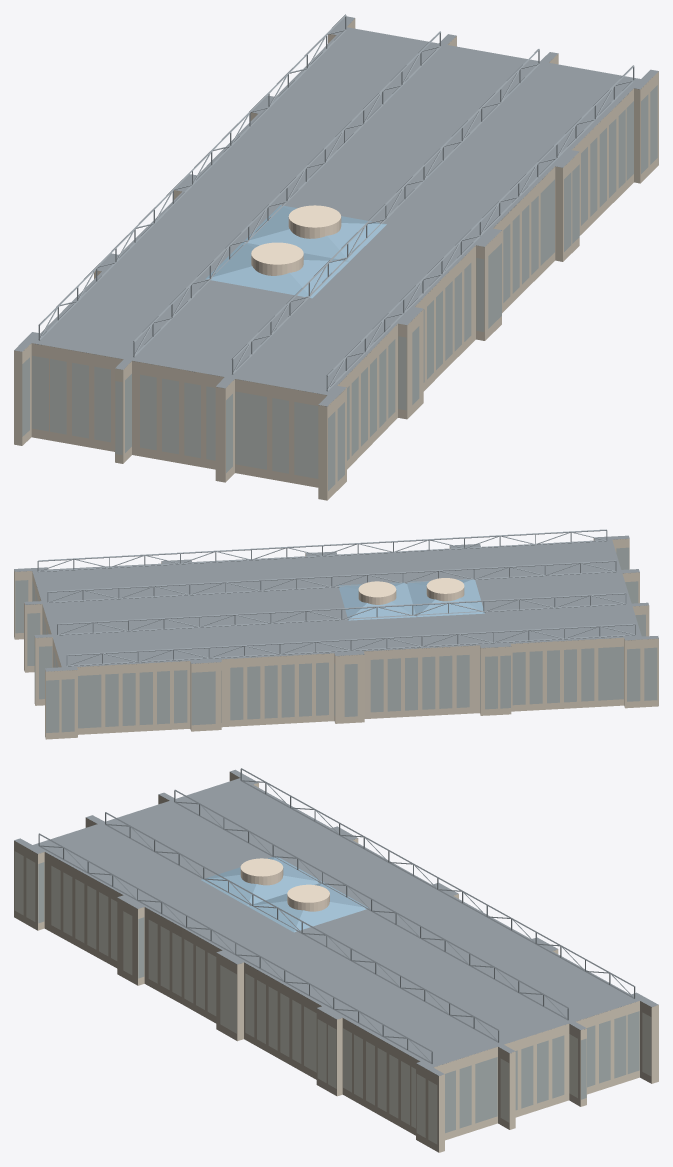
3 views of the same model, one above another, from view 1: azimuth 30°, elevation 25°; view 2: azimuth 150°, elevation 25°; view 3: azimuth 270°, elevation 25° (orthographic). The views are drawn at different scales.
Visible parts, largest first — view 1: roof, window, stone, glass, trim; view 2: roof, window, stone, glass, trim; view 3: roof, window, stone, glass, trim.
Boxes of the visible parts, <box> form: roof: <box>14,14,658,406</box>; window: <box>22,85,657,490</box>; stone: <box>14,18,658,500</box>; glass: <box>205,205,386,298</box>; trim: <box>251,205,341,275</box>; roof: <box>14,529,658,671</box>; window: <box>15,547,657,732</box>; stone: <box>14,538,658,739</box>; glass: <box>338,579,484,620</box>; trim: <box>358,578,464,604</box>; roof: <box>14,768,658,1075</box>; window: <box>14,851,651,1144</box>; stone: <box>14,772,658,1152</box>; glass: <box>201,856,368,932</box>; trim: <box>240,858,329,911</box>.
Size of the model in its own units: 291 by 40 by 259.
